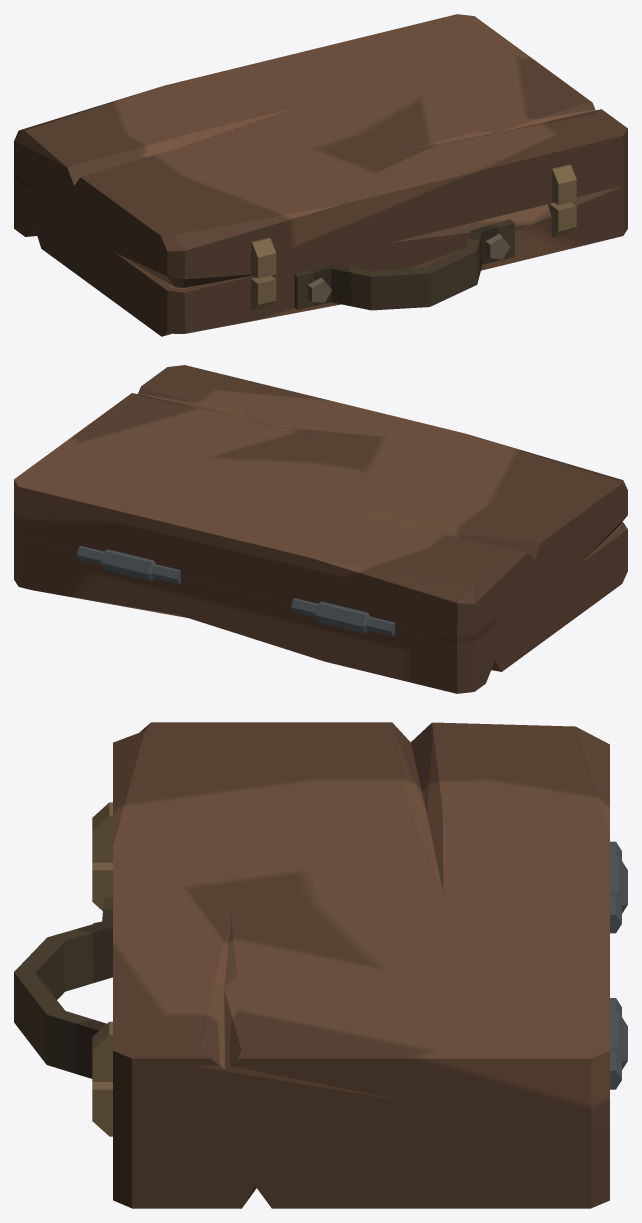
Rendered from SM_Prop_Tool_Case_01.fbx.
3 views of the same model, one above another, from view 1: azimuth 30°, elevation 25°; view 2: azimuth 150°, elevation 25°; view 3: azimuth 270°, elevation 25° (orthographic). The views are drawn at different scales.
Parts seen in each view (by area): view 1: SM_Prop_Tool_Case_01; view 2: SM_Prop_Tool_Case_01; view 3: SM_Prop_Tool_Case_01.
Part boxes in pixels (x1,y1,x2,y2): SM_Prop_Tool_Case_01: (14, 14, 627, 336); SM_Prop_Tool_Case_01: (14, 365, 627, 693); SM_Prop_Tool_Case_01: (14, 722, 627, 1208).
Size of the model in its own units: 94.62 by 19.68 by 73.06.
